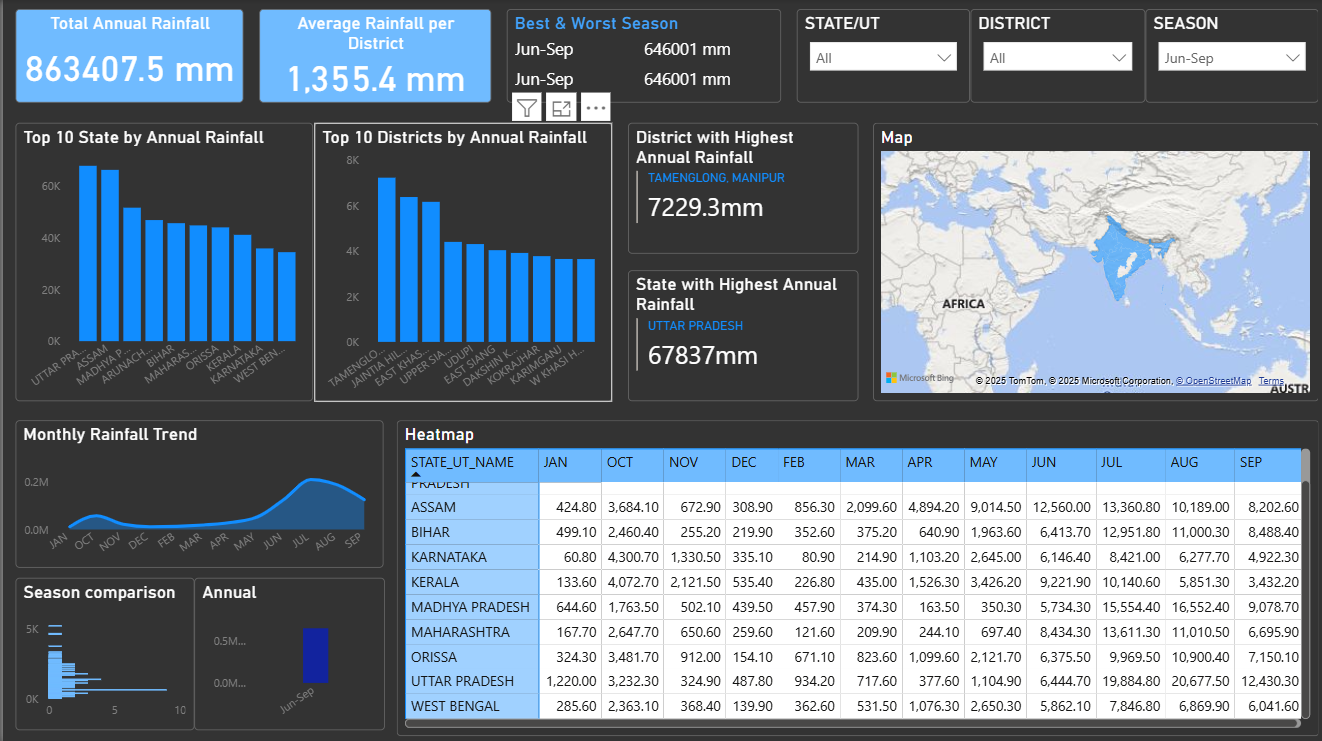

Layout of this report page (visuals, bound fields, positions):
{"tool":"powerbi","page":{"name":"Page 1","canvas":[1280,720],"ordinal":0},"visuals":[{"type":"card","title":"Total Annual Rainfall","fields":{"Values":["DimDistrict.Total Annual Rainfall"]},"box":[12.5,9.7,220,90],"z":0},{"type":"card","title":"Average Rainfall per District","fields":{"Values":["DimDistrict.Avg Rainfall per District"]},"box":[247.5,9.7,223.8,90],"z":1000},{"type":"multiRowCard","title":"Best & Worst Season","fields":{"Values":["DimDistrict.Worst Season (Name)","DimDistrict.Worst Season (Value)","DimDistrict.Best Season (Name)","DimDistrict.Best Season (Value)"]},"box":[486.2,9.7,265,90],"z":2000},{"type":"multiRowCard","title":"State with Highest Annual Rainfall","fields":{"Values":["DimDistrict.State with Highest Annual Rainfall (mm)","DimDistrict.State with Highest Annual Rainfall (Name)"]},"box":[602.8,261.9,222.5,126.2],"z":2000,"group":"g1"},{"type":"multiRowCard","title":"District with Highest Annual Rainfall","fields":{"Values":["DimDistrict.District with Highest Annual Rainfall (mm)","DimDistrict.District with Highest Annual Rainfall (Label)"]},"box":[602.8,119.4,222,126],"z":3000,"group":"g1"},{"type":"filledMap","title":"Map","fields":{"Category":["Rainfall.STATE_UT_NAME","Rainfall.DISTRICT"]},"box":[840,119.7,430,268.8],"z":4000},{"type":"lineChart","title":"Monthly Rainfall Trend ","fields":{"Category":["Monthly.MonthName"],"Y":["Sum(Monthly.Rainfall)"]},"box":[12.5,406,355,142.5],"z":5000},{"type":"clusteredColumnChart","title":"Top 10 State by Annual Rainfall","fields":{"Category":["DimDistrict.STATE_UT_NAME"],"Y":["DimDistrict.Total Annual Rainfall"]},"box":[12.5,119.7,287,268.8],"z":6000},{"type":"clusteredColumnChart","title":"Top 10 Districts by Annual Rainfall","fields":{"Y":["DimDistrict.Total Annual Rainfall"],"Category":["Rainfall.DISTRICT"]},"box":[300,119.4,287.5,269.4],"z":7000},{"type":"pivotTable","title":"Heatmap","fields":{"Columns":["Monthly.MonthName"],"Values":["Sum(Monthly.Rainfall)"],"Rows":["DimState.STATE_UT_NAME"]},"box":[380,406,890,305],"z":8000},{"type":"clusteredBarChart","title":"Season comparison","fields":{"Y":["CountNonNull(Seasonal.Season)"],"Category":["Seasonal.SeasonRainfall"]},"box":[12.5,558.5,172.5,147.5],"z":9000},{"type":"waterfallChart","title":"Annual","fields":{"Category":["Seasonal.Season"],"Y":["Sum(Seasonal.SeasonRainfall)"]},"box":[185,558.5,183.8,147.5],"z":10000},{"type":"slicer","title":"DISTRICT","fields":{"Values":["DimDistrict.DISTRICT"]},"box":[933.8,9.7,168.8,90],"z":12000},{"type":"slicer","title":"SEASON","fields":{"Values":["Seasonal.Season"]},"box":[1102.5,9.7,167.5,90],"z":13000},{"type":"slicer","title":"STATE/UT","fields":{"Values":["DimDistrict.STATE_UT_NAME"]},"box":[766.2,9.7,167.5,90],"z":14000},{"type":"group","id":"g1","title":"Group 1","box":[602.8,119.4,222.2,269.4],"z":15000}]}

Visuals, with their boxes in screenshot pixels (x1, y1, x2, y2), scaled from the page's 1280x720 canvas onto the 1322x741 screenshot:
"Total Annual Rainfall" card: crop(13, 10, 240, 103)
"Average Rainfall per District" card: crop(256, 10, 487, 103)
"Best & Worst Season" multiRowCard: crop(502, 10, 776, 103)
"State with Highest Annual Rainfall" multiRowCard: crop(623, 270, 852, 399)
"District with Highest Annual Rainfall" multiRowCard: crop(623, 123, 852, 253)
"Map" filledMap: crop(868, 123, 1312, 400)
"Monthly Rainfall Trend " lineChart: crop(13, 418, 380, 564)
"Top 10 State by Annual Rainfall" clusteredColumnChart: crop(13, 123, 309, 400)
"Top 10 Districts by Annual Rainfall" clusteredColumnChart: crop(310, 123, 607, 400)
"Heatmap" pivotTable: crop(392, 418, 1312, 732)
"Season comparison" clusteredBarChart: crop(13, 575, 191, 727)
"Annual" waterfallChart: crop(191, 575, 381, 727)
"DISTRICT" slicer: crop(964, 10, 1139, 103)
"SEASON" slicer: crop(1139, 10, 1312, 103)
"STATE/UT" slicer: crop(791, 10, 964, 103)
"Group 1" group: crop(623, 123, 852, 400)
